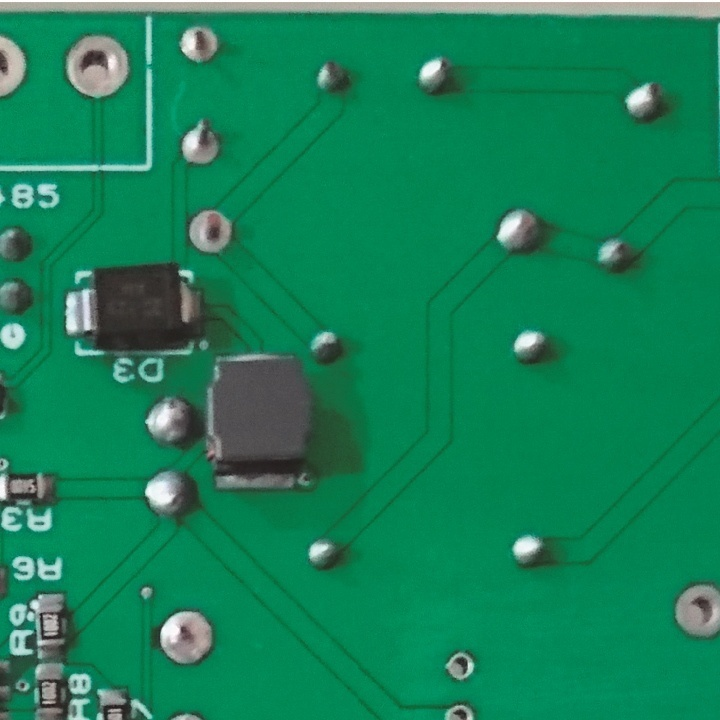F: (61, 32, 133, 98), (159, 607, 220, 669), (671, 581, 720, 638), (186, 206, 234, 260), (179, 117, 222, 169), (178, 24, 220, 66), (442, 646, 477, 683), (440, 700, 480, 720)
